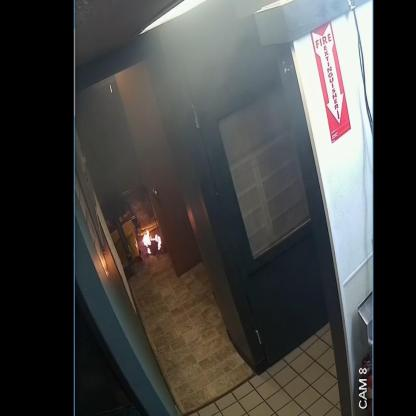fire: (142, 230, 152, 254), (151, 234, 161, 250)
